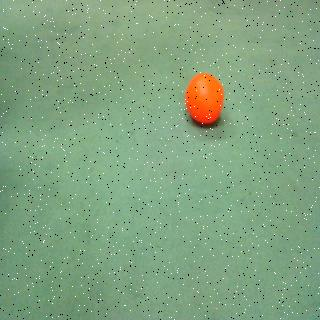orange: (182, 69, 228, 133)
